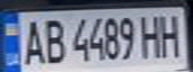4: (66, 14, 90, 63), (87, 14, 106, 62)
8: (103, 14, 121, 61)
9: (118, 14, 139, 61)
A: (18, 16, 48, 66)
B: (39, 15, 69, 65)
H: (136, 11, 166, 60), (157, 10, 187, 58)
